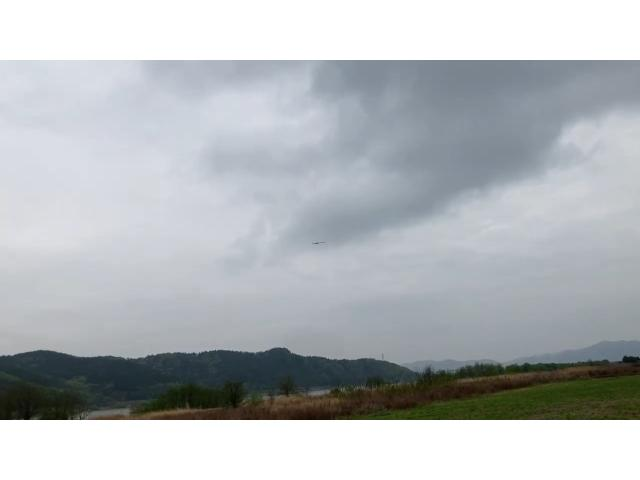Anti-Drone: (300, 233, 334, 251)
